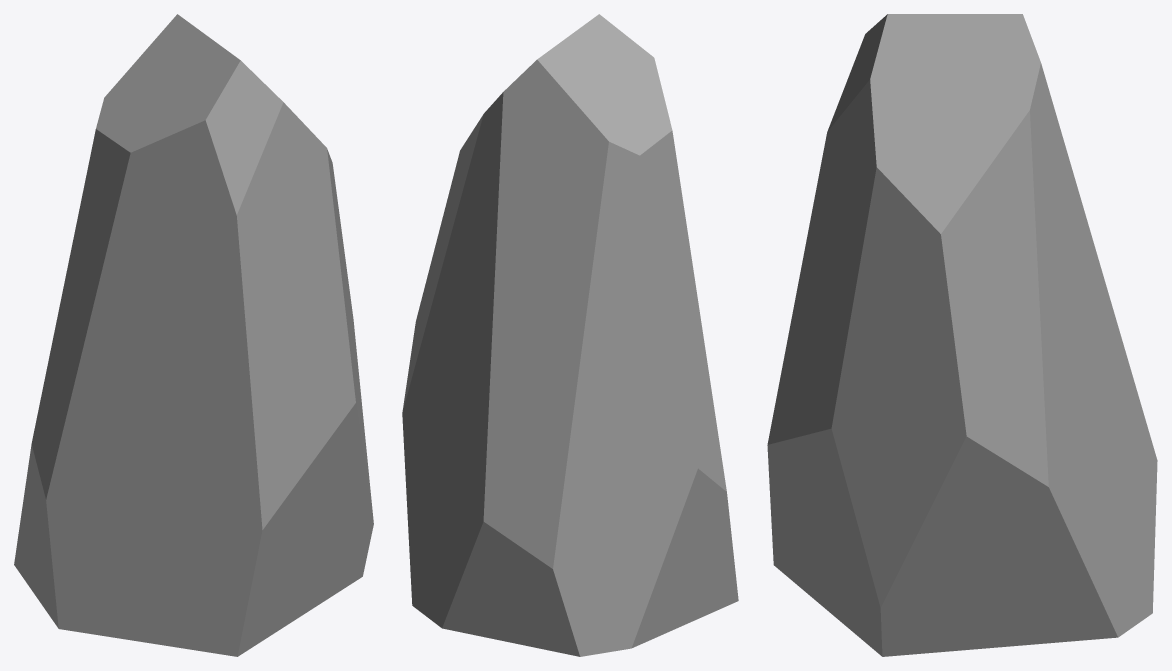
The model's file is HardRock_19.fbx.
The picture shows the model from 3 angles, left to right: view 1: azimuth 30°, elevation 25°; view 2: azimuth 150°, elevation 25°; view 3: azimuth 270°, elevation 25°; orthographic projection. The views are drawn at different scales.
Parts seen in each view (by area): view 1: HardRock_19; view 2: HardRock_19; view 3: HardRock_19.
Boxes of the visible parts, x1,y1,x2,y2 form: HardRock_19: (14, 14, 373, 656); HardRock_19: (402, 14, 738, 656); HardRock_19: (767, 14, 1157, 656).
Bounding box in the file's own units: 74.76 × 124 × 75.76.
